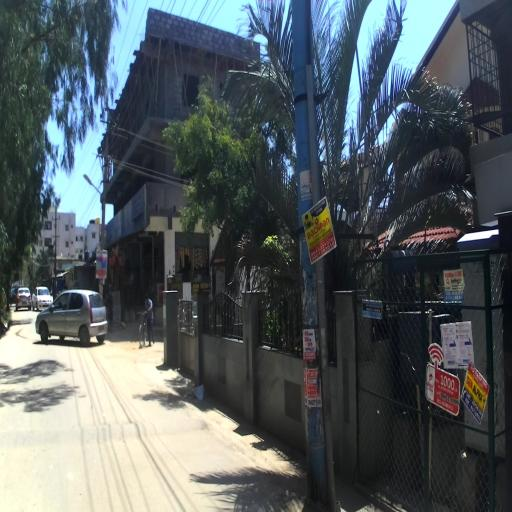street_light_0: (84, 174, 106, 210)
